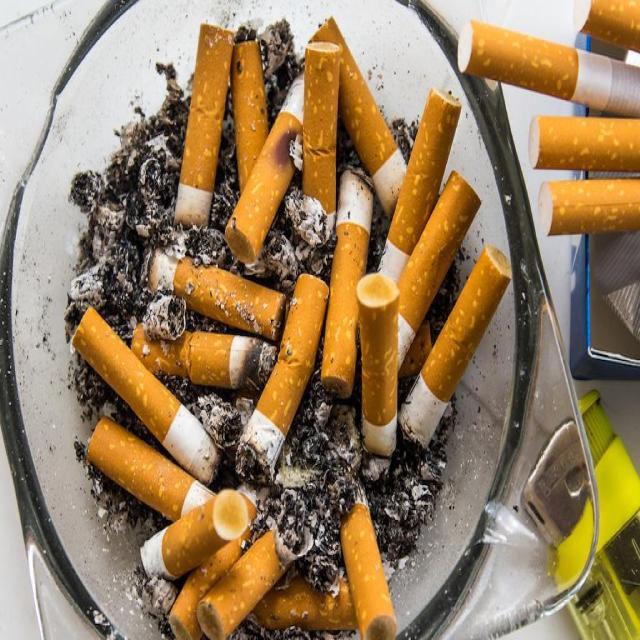smoking: (11, 0, 640, 632)
